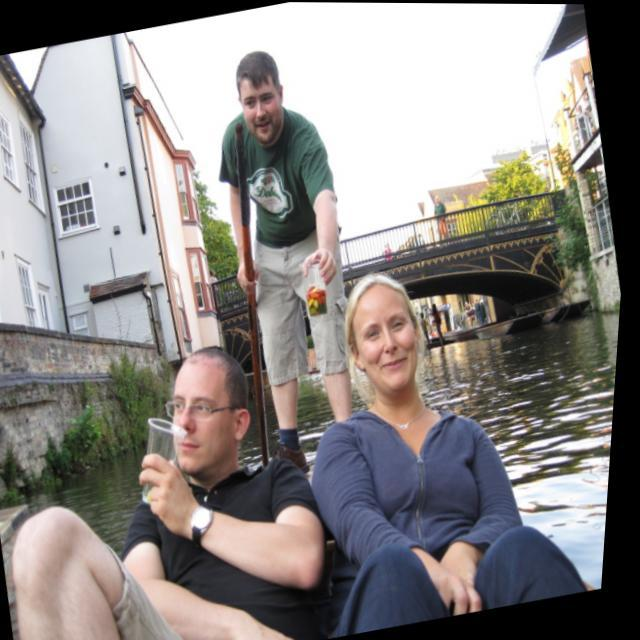Nonhelmet: (146, 331, 258, 478), (329, 265, 441, 402), (340, 270, 428, 399), (230, 43, 291, 143)
